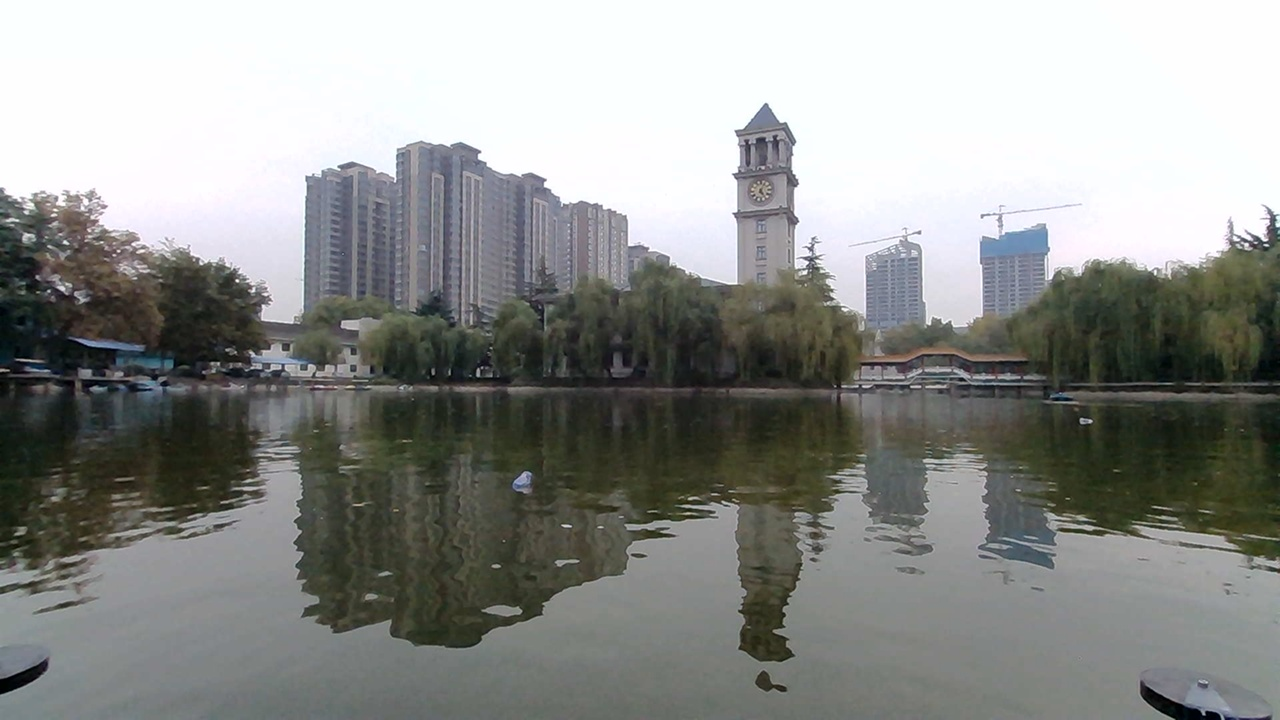bottle: (486, 449, 564, 496), (1058, 406, 1115, 434)
